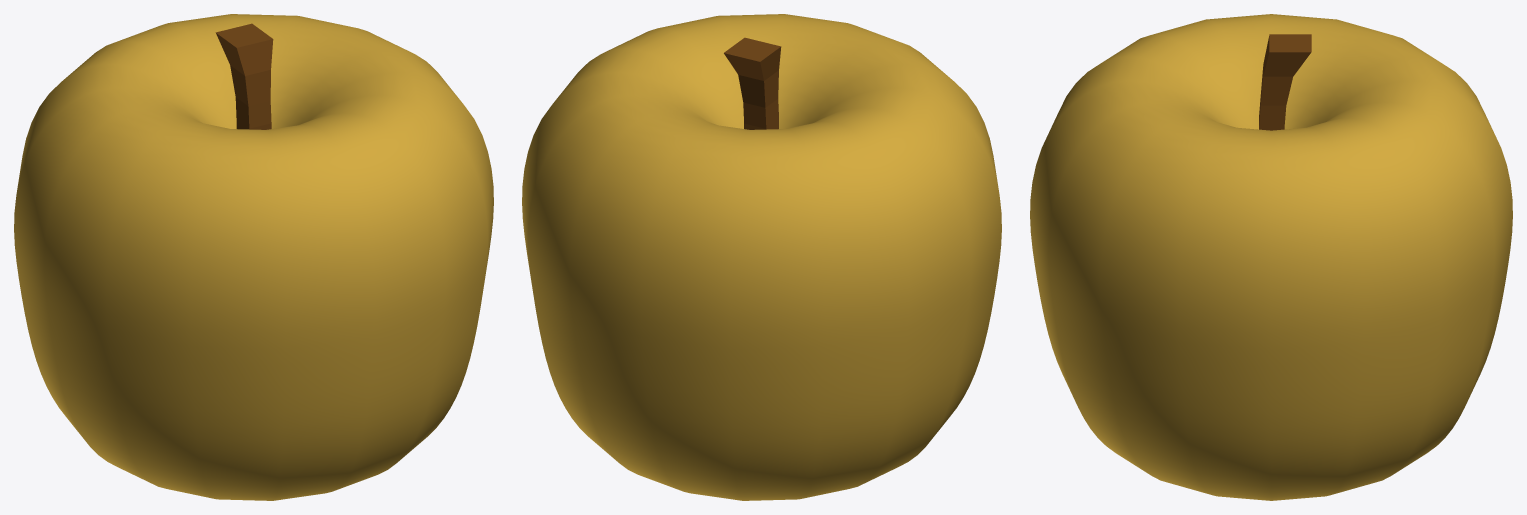
File: apple.fbx
The picture shows the model from 3 angles, left to right: view 1: azimuth 30°, elevation 25°; view 2: azimuth 150°, elevation 25°; view 3: azimuth 270°, elevation 25°; orthographic projection.
Visible parts, largest first — view 1: Vert, Cube; view 2: Vert, Cube; view 3: Vert, Cube.
Part boxes in pixels (box(x1,y1,x2,y2)): Vert: box(14, 14, 493, 500); Cube: box(215, 23, 273, 129); Vert: box(522, 14, 1001, 500); Cube: box(724, 37, 781, 129); Vert: box(1030, 14, 1512, 500); Cube: box(1259, 34, 1311, 130).
Size of the model in its own units: 32.01 by 29.62 by 32.01.
